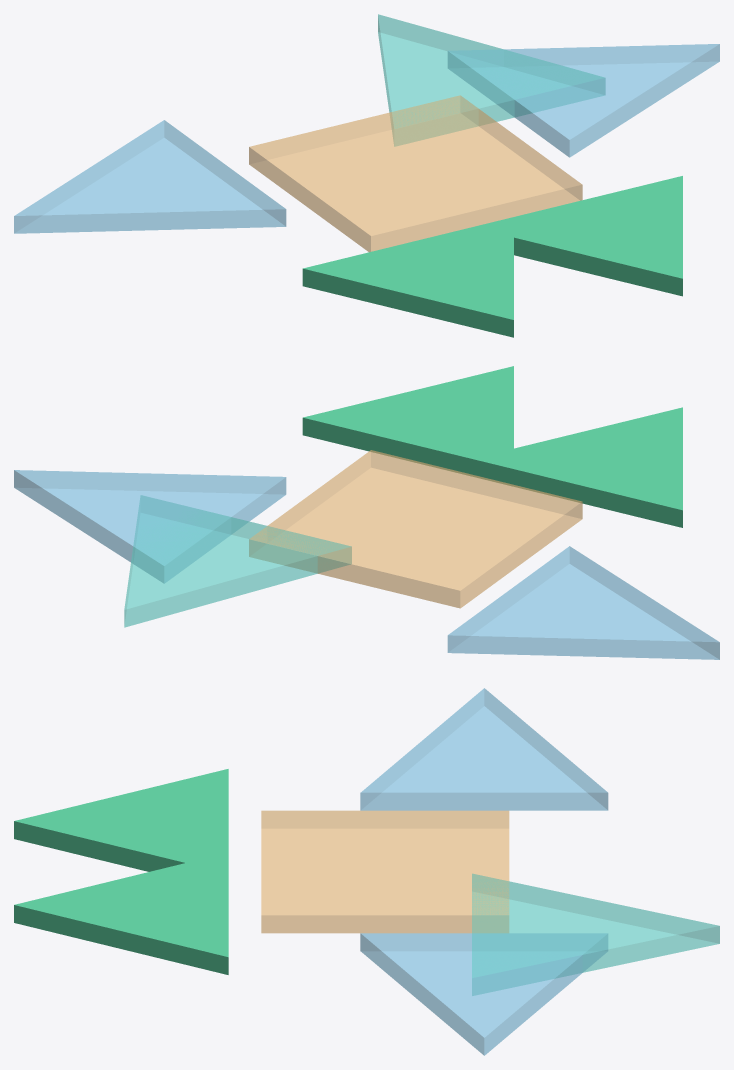
Rendered from uccello_step6.glb.
3 views of the same model, one above another, from view 1: azimuth 30°, elevation 25°; view 2: azimuth 150°, elevation 25°; view 3: azimuth 270°, elevation 25° (orthographic).
Visible parts, largest first — view 1: quadrato_piccolo, triangolo_isoscele_grande, triangolo_isoscele_grande.001, triangolo_isoscele_piccolo, triangolo_equilatero, triangolo_equilatero.001; view 2: quadrato_piccolo, triangolo_isoscele_grande, triangolo_isoscele_grande.001, triangolo_isoscele_piccolo, triangolo_equilatero, triangolo_equilatero.001; view 3: quadrato_piccolo, triangolo_isoscele_grande, triangolo_isoscele_piccolo, triangolo_isoscele_grande.001, triangolo_equilatero.001, triangolo_equilatero.
Boxes of the visible parts, x1,y1,x2,y2 form: quadrato_piccolo: (249,95,582,252); triangolo_isoscele_grande: (14,120,286,233); triangolo_isoscele_grande.001: (448,44,719,157); triangolo_isoscele_piccolo: (378,14,605,146); triangolo_equilatero: (302,217,513,337); triangolo_equilatero.001: (477,176,682,296); quadrato_piccolo: (249,450,582,608); triangolo_isoscele_grande: (447,546,719,659); triangolo_isoscele_grande.001: (14,470,286,583); triangolo_isoscele_piccolo: (124,495,351,627); triangolo_equilatero: (471,407,682,527); triangolo_equilatero.001: (302,366,513,475); quadrato_piccolo: (261,810,509,933); triangolo_isoscele_grande: (360,688,608,810); triangolo_isoscele_piccolo: (472,873,719,995); triangolo_isoscele_grande.001: (360,933,607,1055); triangolo_equilatero.001: (14,853,228,974); triangolo_equilatero: (14,769,228,873).
Size of the model in its own units: 3.34 by 0.08 by 2.85.
